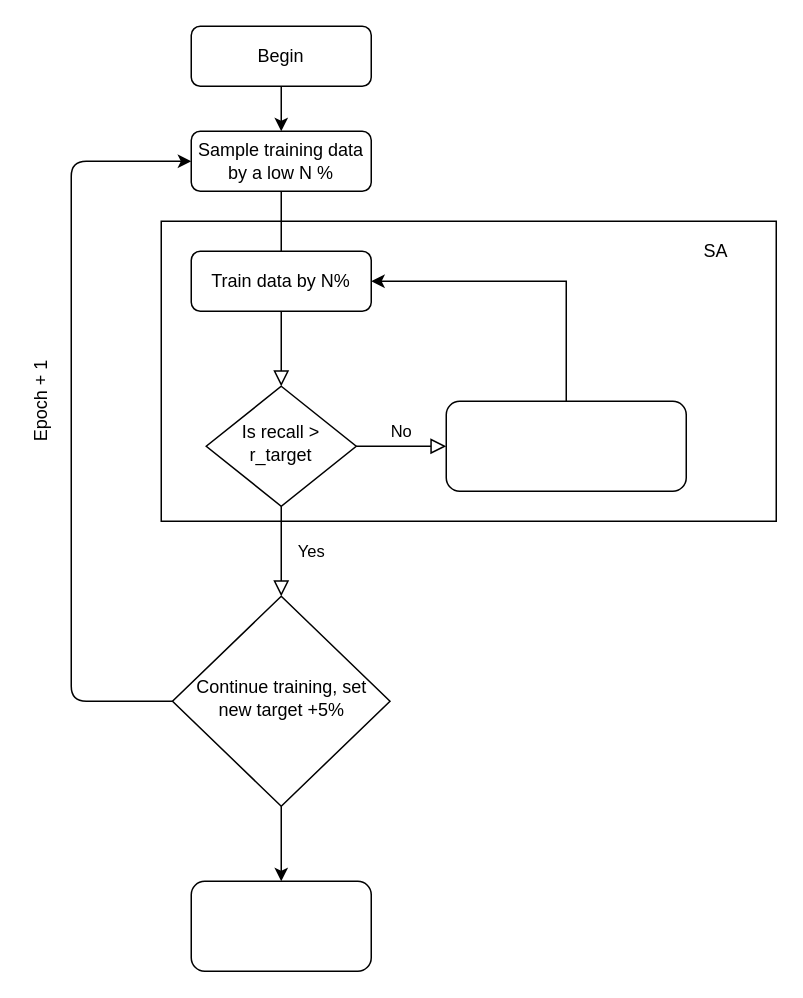
This 803x998 diagram has some shape labels left out. The shapes that lost their labels are listed below. From the top down, each one's centre as x and y in pixels, then its label:
[565,445]: Select a new random N% Data
[280,925]: Done
